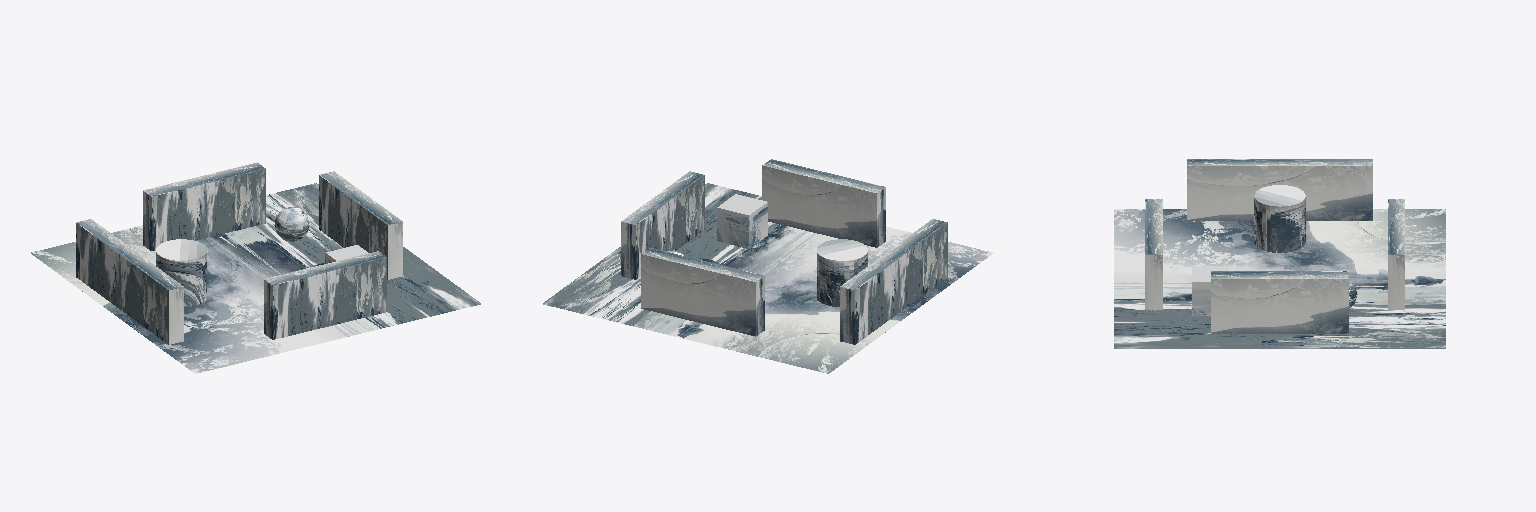
3 renders of one model, left to right at view 1: azimuth 30°, elevation 25°; view 2: azimuth 150°, elevation 25°; view 3: azimuth 270°, elevation 25°, orthographic.
Parts seen in each view (by area): view 1: Plane; view 2: Plane; view 3: Plane.
Boxes of the visible parts, x1=… form: Plane: x1=31, y1=162, x2=480, y2=373; Plane: x1=543, y1=159, x2=992, y2=373; Plane: x1=1114, y1=159, x2=1445, y2=348.
Size of the model in its own units: 10.46 by 2.24 by 10.46.
Materials: 1 (1 with a texture image).